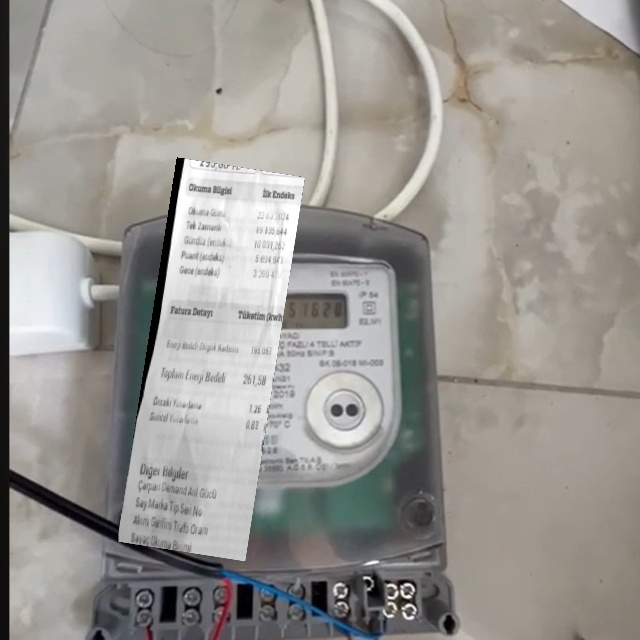electricity-bill: (116, 156, 304, 560)
